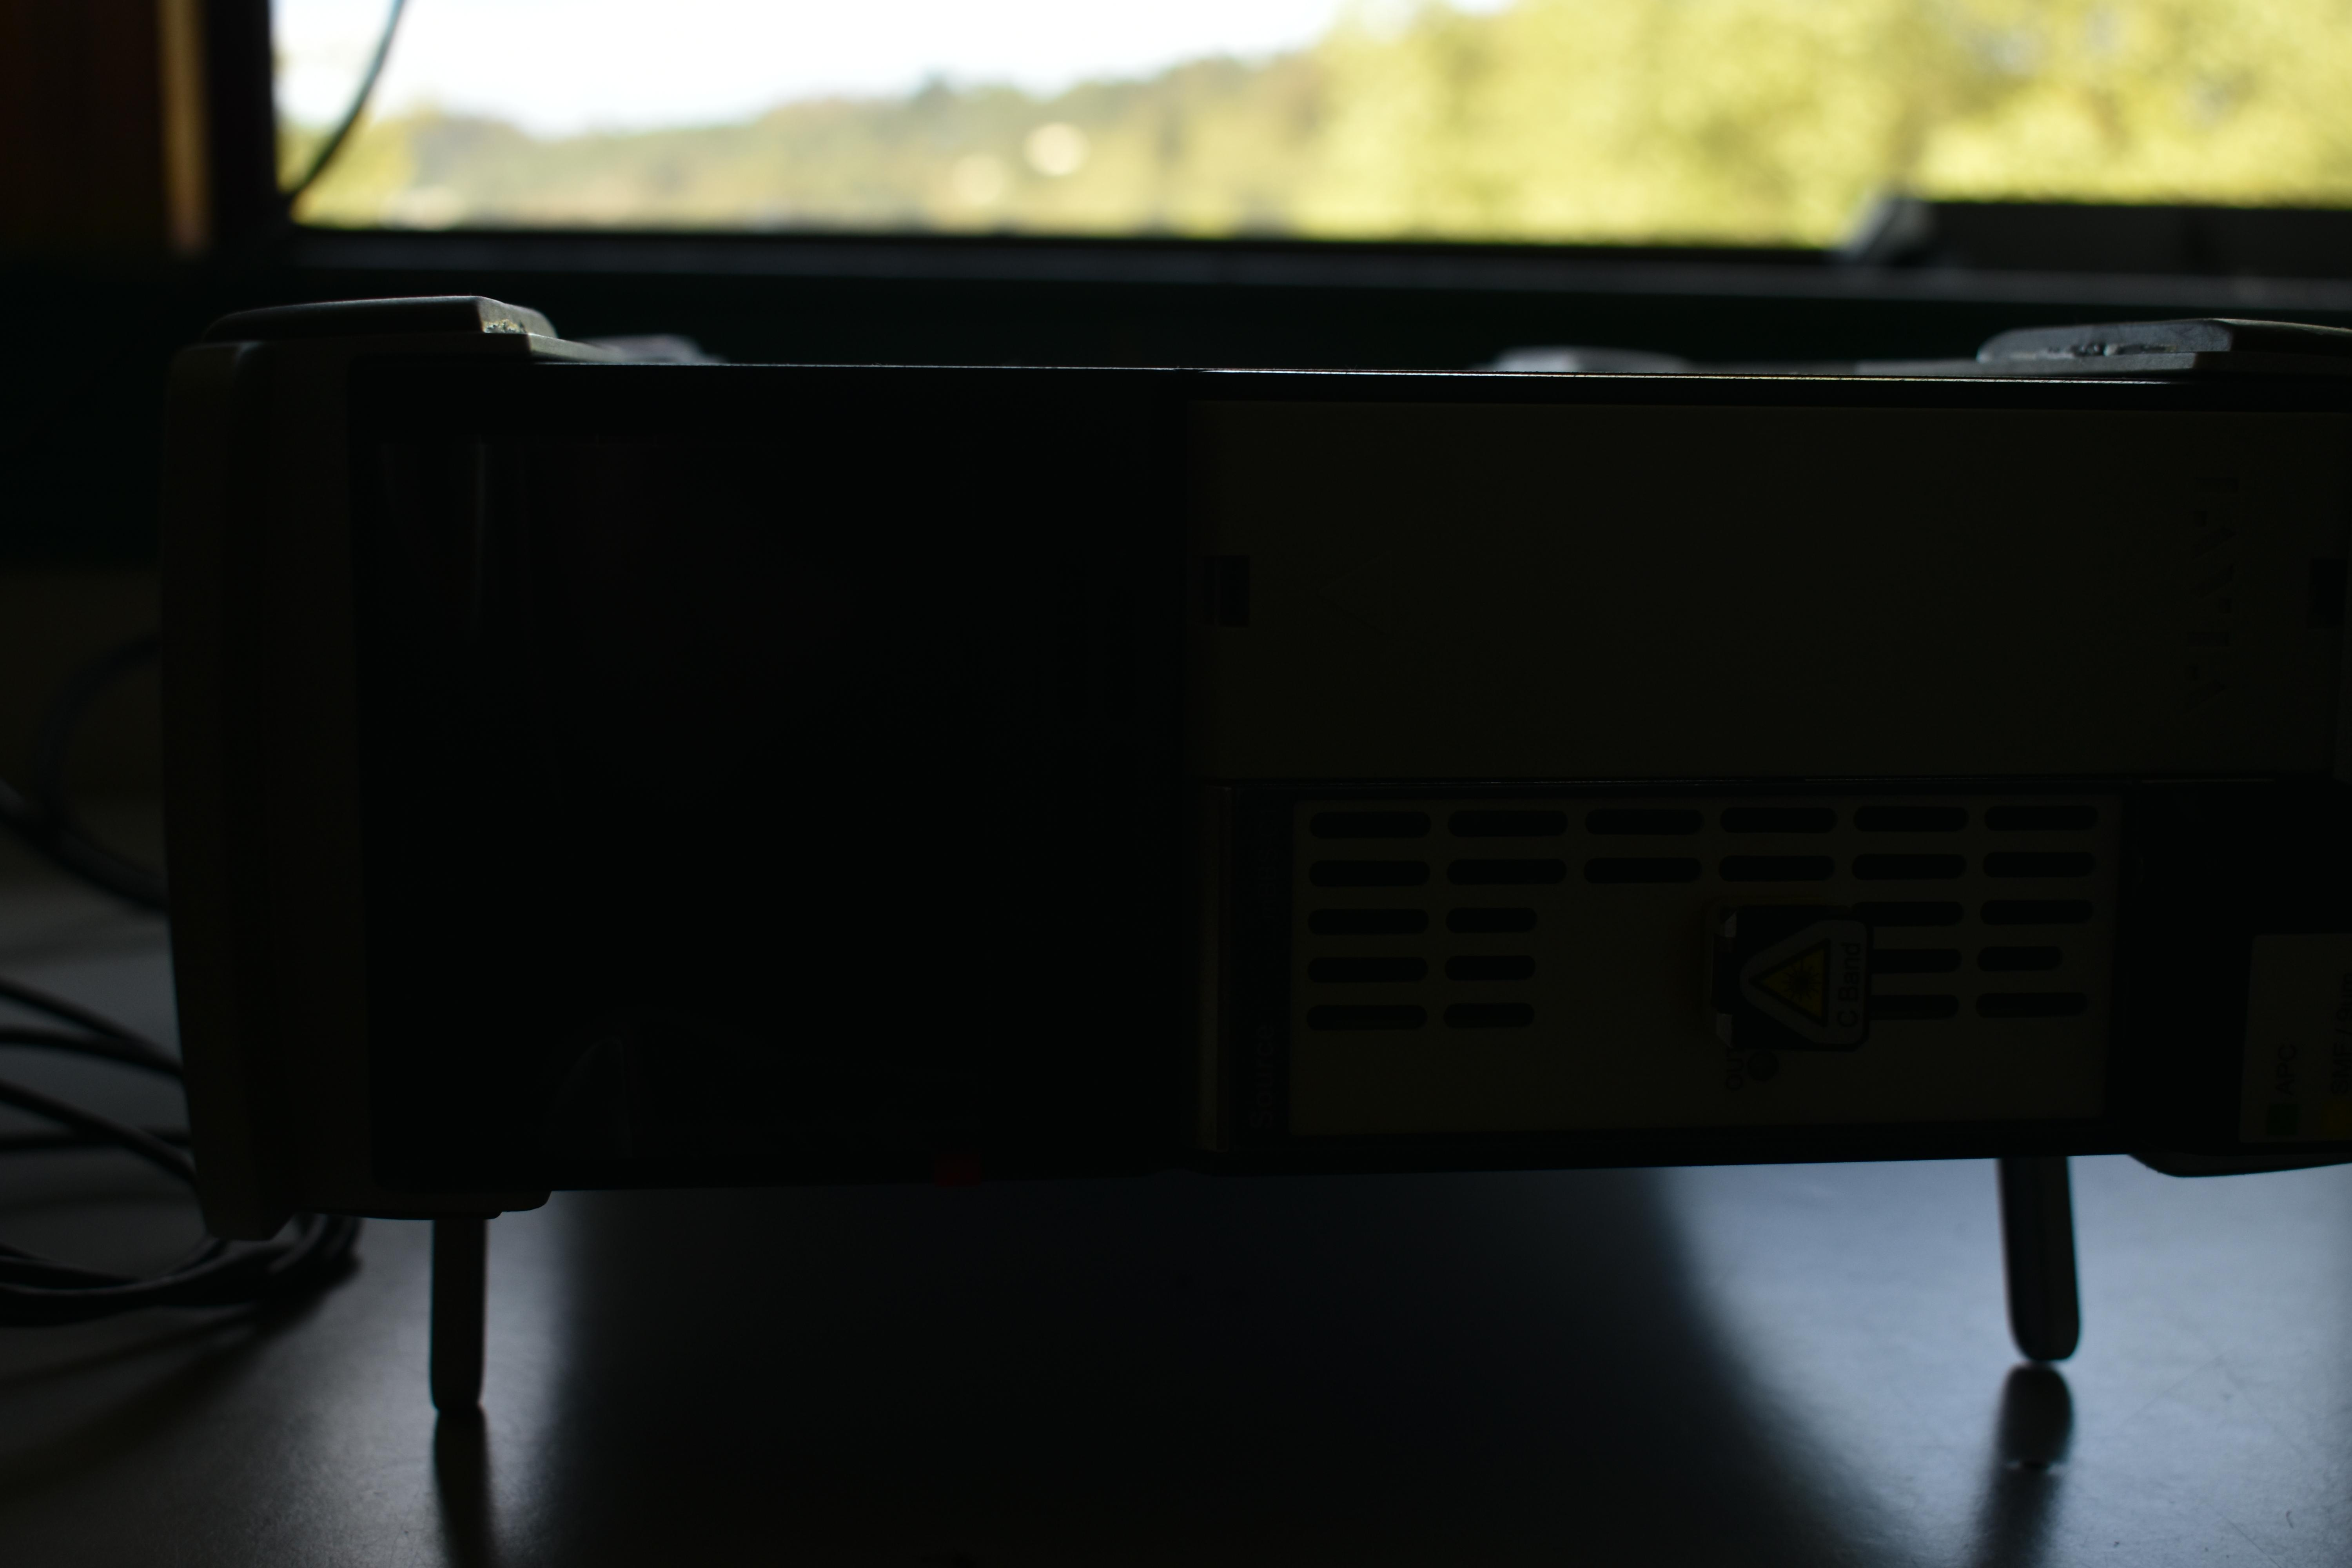laser: (184, 300, 2352, 1427)
